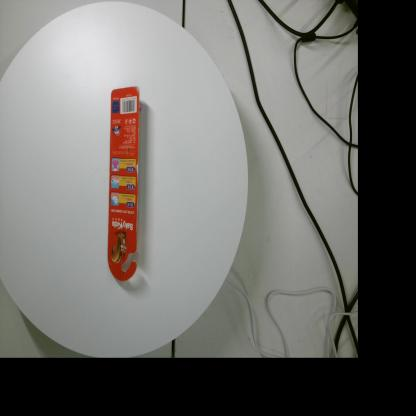Personal Hygiene: (107, 86, 140, 281)
